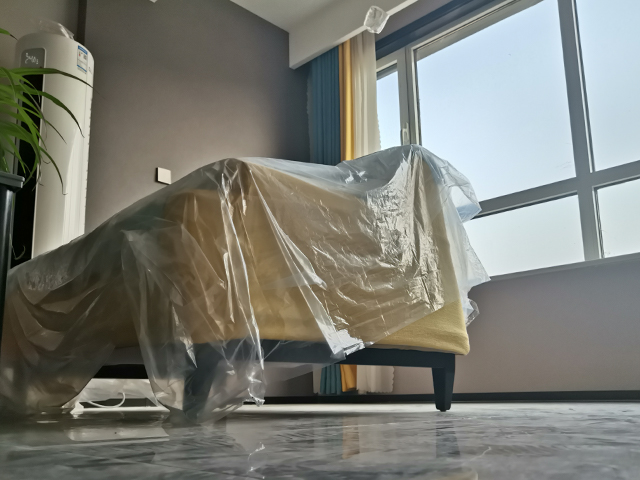sofa: (4, 145, 473, 412)
wire: (85, 390, 128, 409)
